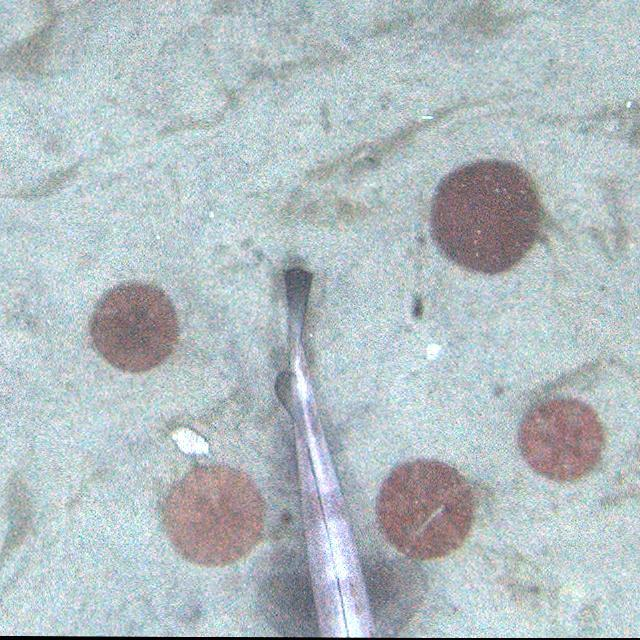roundfish: (265, 266, 382, 635)
